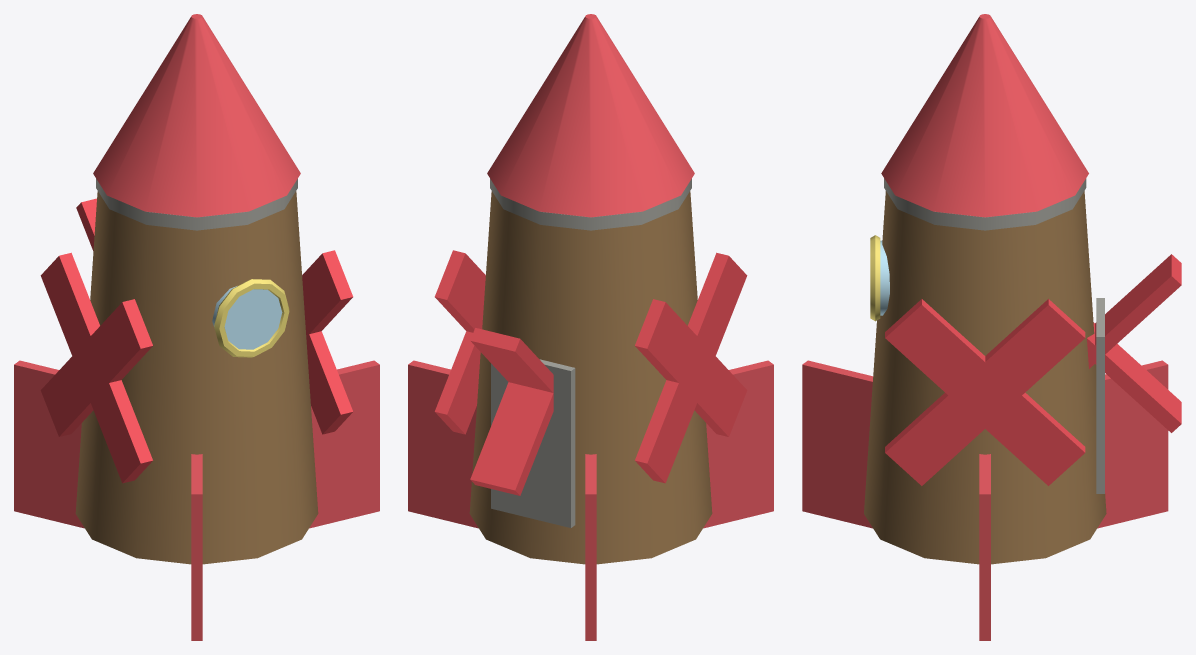
The model's file is Nave.glb.
3 views of the same model, side by side, from view 1: azimuth 30°, elevation 25°; view 2: azimuth 150°, elevation 25°; view 3: azimuth 270°, elevation 25° (orthographic).
Visible parts, largest first — view 1: Nave; view 2: Nave; view 3: Nave.
Boxes of the visible parts, box(x1,y1,x2,y2) form: Nave: box(14, 14, 379, 640); Nave: box(408, 14, 773, 640); Nave: box(802, 14, 1181, 640).
Size of the model in its own units: 1.15 by 2.05 by 1.31.
